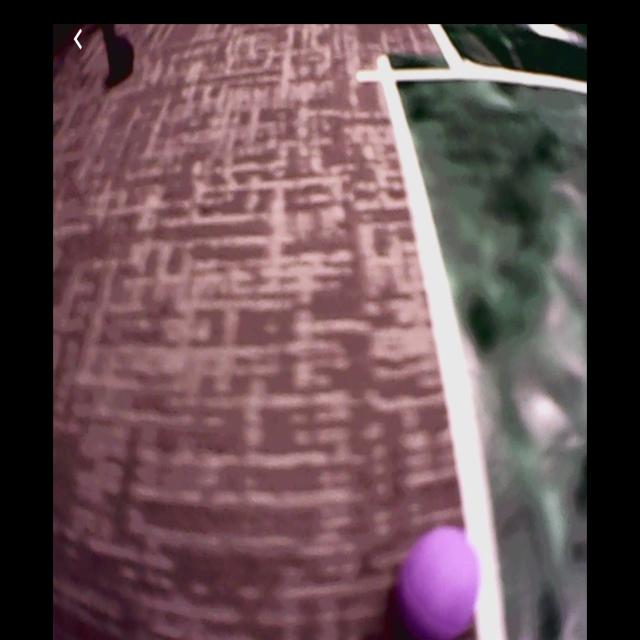ball: (397, 525, 482, 639)
